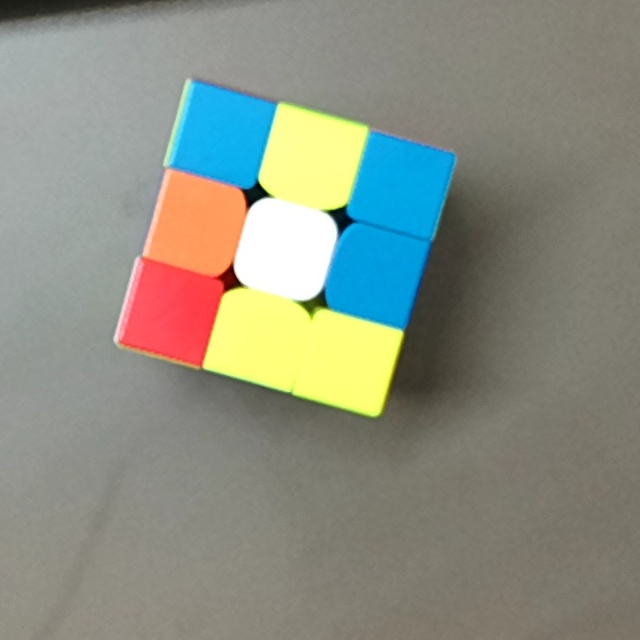tile: (249, 211, 320, 285), (277, 121, 349, 190), (136, 277, 204, 346), (368, 149, 438, 216), (165, 189, 233, 256), (224, 309, 294, 374), (187, 105, 261, 165), (318, 327, 384, 391), (347, 240, 411, 303)
